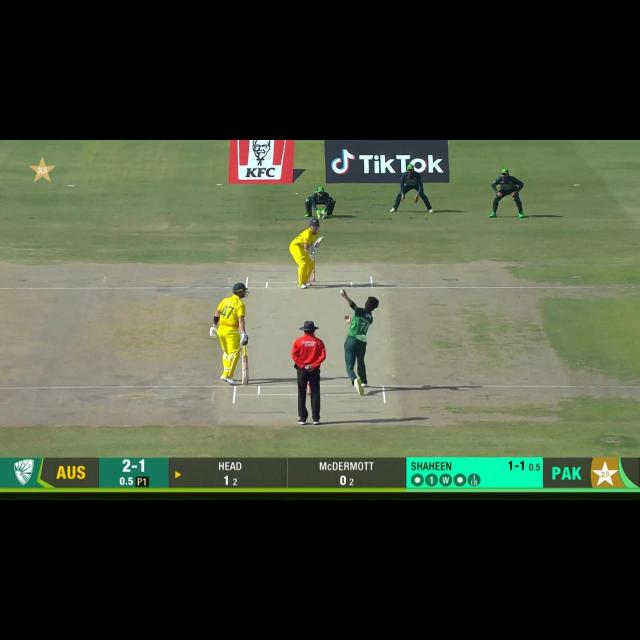bat: (241, 355, 250, 386), (313, 236, 324, 248)
toe: (315, 236, 326, 242), (241, 380, 250, 386)
